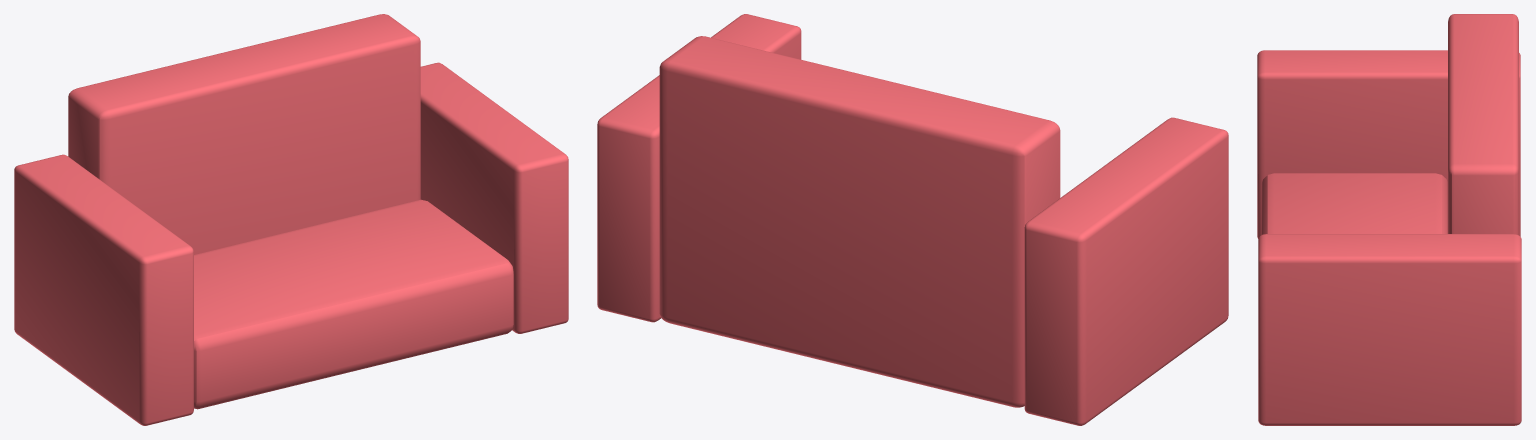
The model's file is sofa.fbx.
3 renders of one model, left to right at view 1: azimuth 30°, elevation 25°; view 2: azimuth 150°, elevation 25°; view 3: azimuth 270°, elevation 25°, orthographic. The views are drawn at different scales.
Parts seen in each view (by area): view 1: Cube.004; view 2: Cube.004; view 3: Cube.004.
Boxes of the visible parts, left/top/right/bottom form: Cube.004: left=14, top=14, right=568, bottom=425; Cube.004: left=597, top=14, right=1228, bottom=425; Cube.004: left=1257, top=14, right=1521, bottom=425.
Size of the model in its own units: 532 by 275 by 283.
